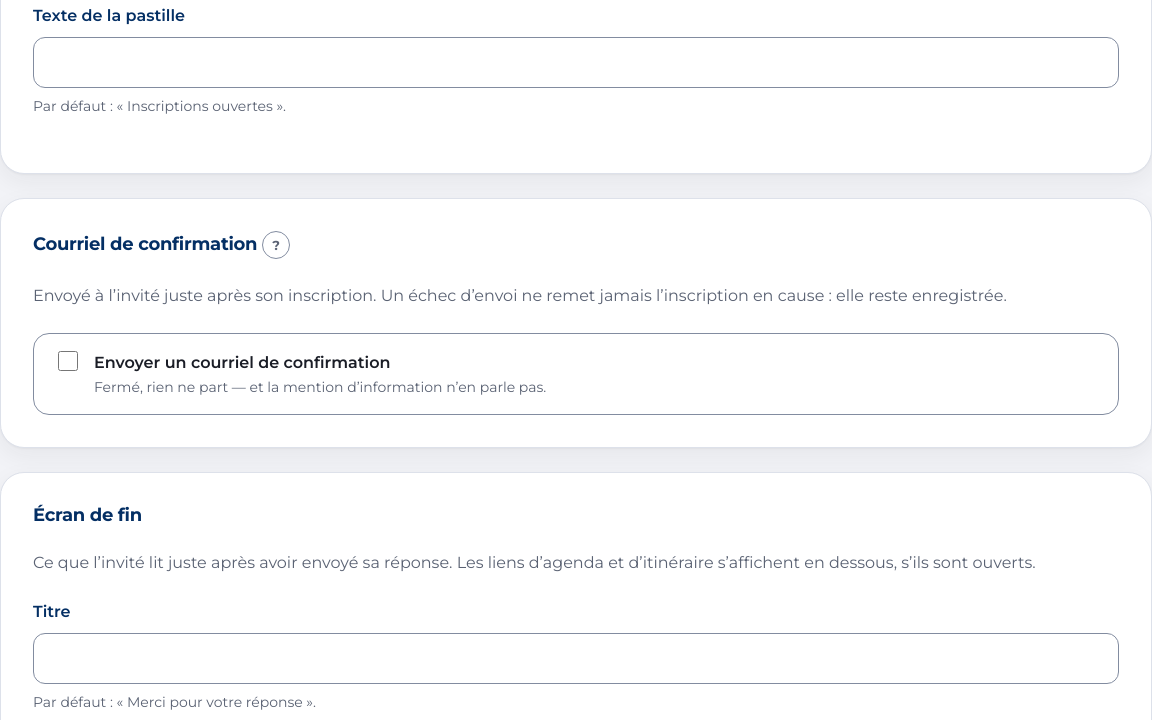
courriel de confirmation › signale que le champ « Accès » est vide, puisqu’il alimente le courriel
The width and height of the screenshot is (1152, 720).
(page scrolled)
Click the checkbox labelled "Envoyer un courriel": coordinates (68, 361) [58,351,78,371]
(page scrolled)
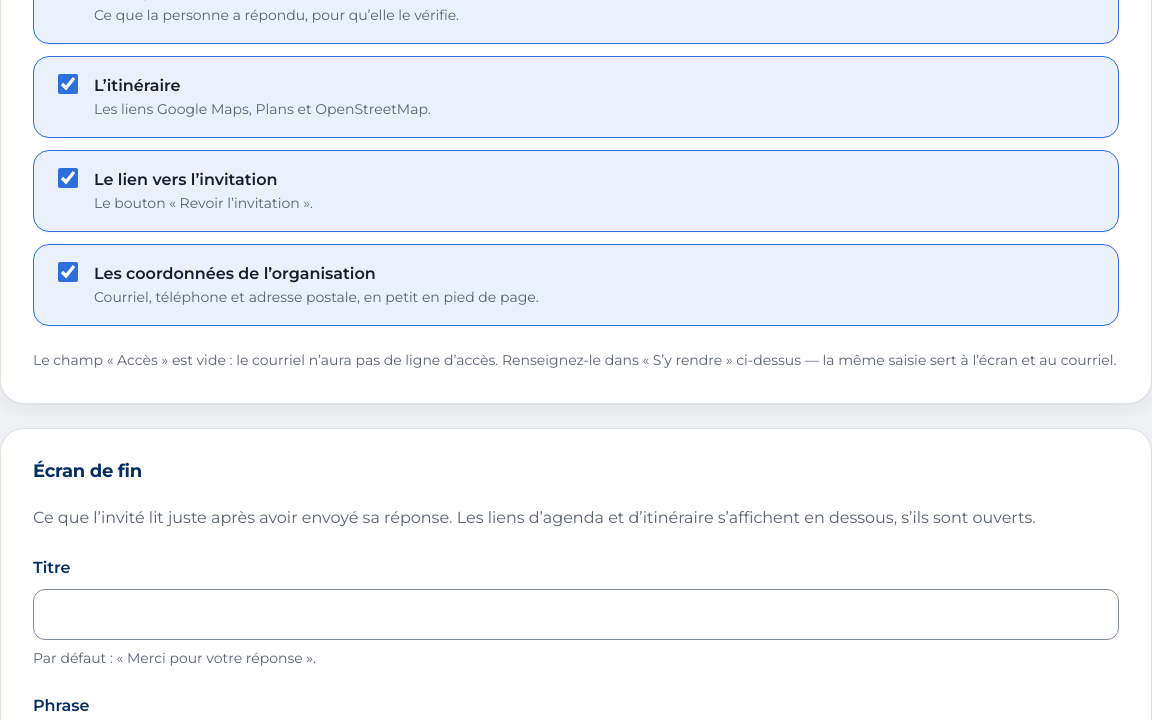
Now the text "Le champ « Accès » est vide" is shown, box [33,351,1117,369]
